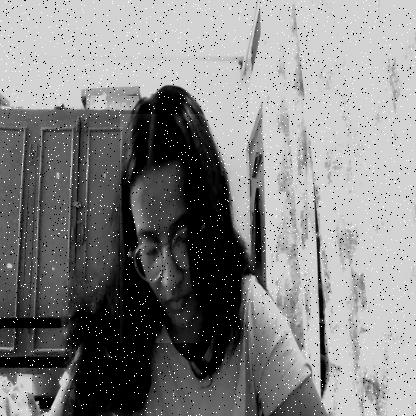Normal: (120, 114, 223, 343)
